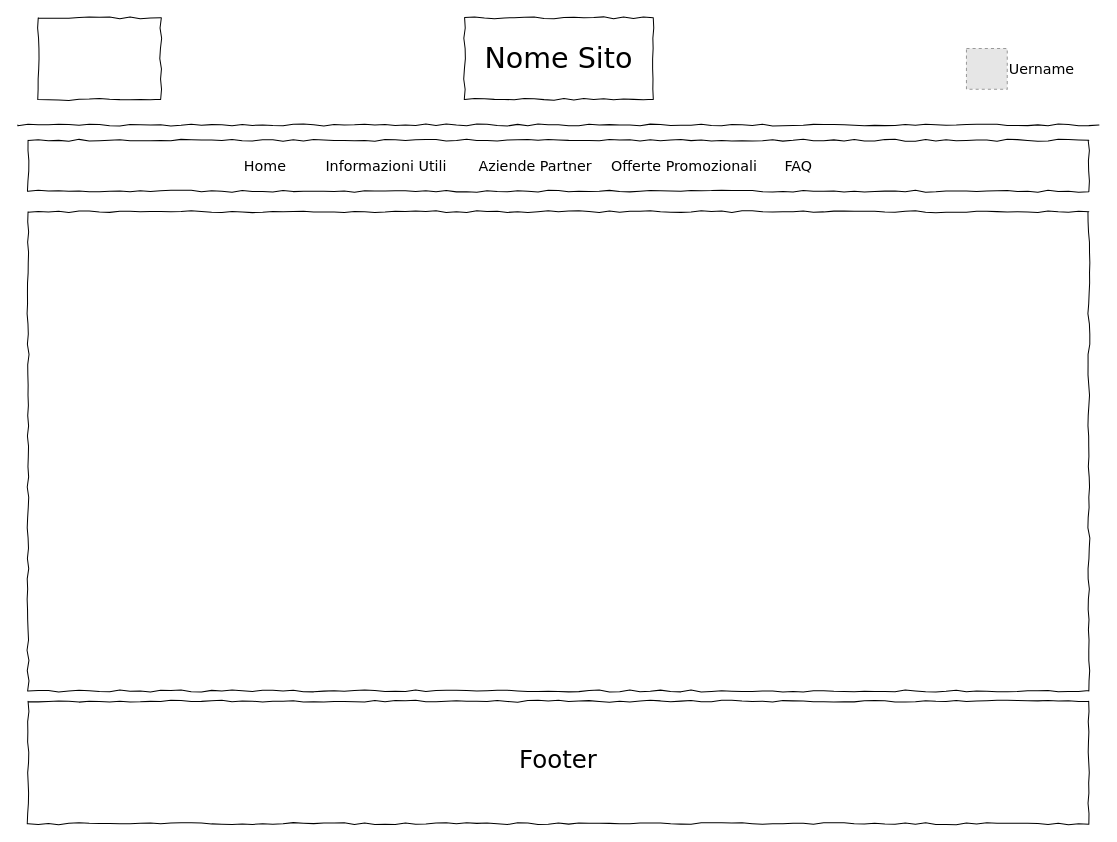
This 1117x842 diagram has some shape labels left out. Grey dashed boxes stand in for pictures. Here are the shapes that lost their labels. From the top down, the centre of each, then its label:
[99,58]: Logo
[558,451]: Modifica Offerta
